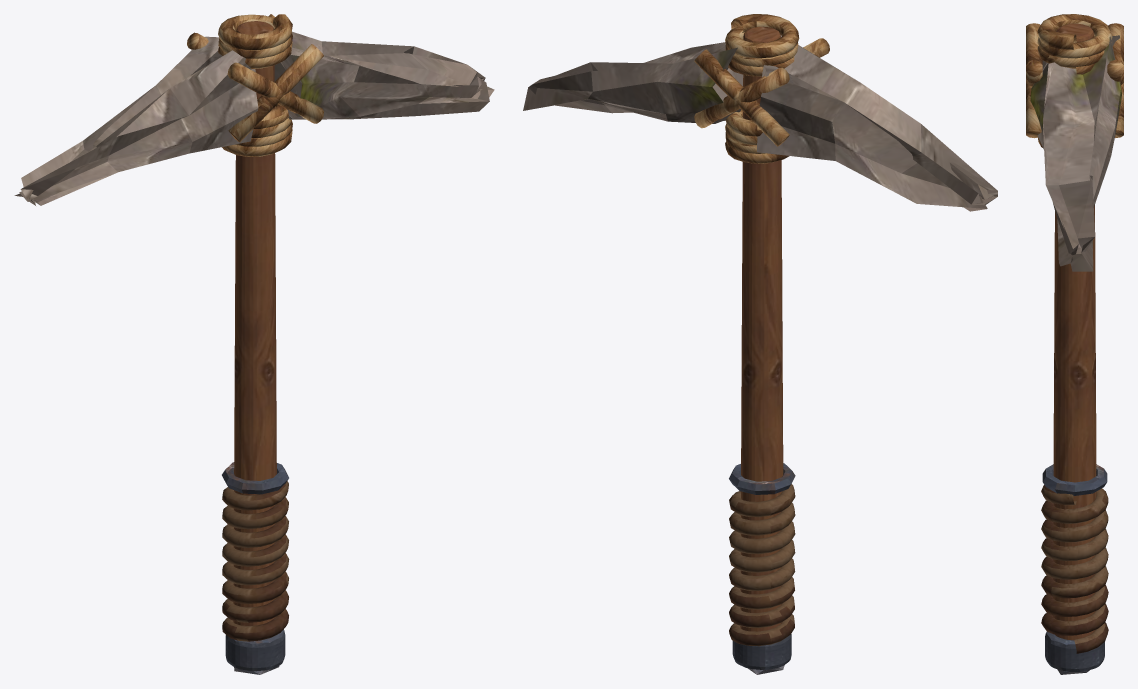
Rendered from pickaxe_stone.glb.
The picture shows the model from 3 angles, left to right: view 1: azimuth 30°, elevation 25°; view 2: azimuth 150°, elevation 25°; view 3: azimuth 270°, elevation 25°; orthographic projection.
Visible parts, largest first — view 1: model; view 2: model; view 3: model.
Boxes of the visible parts, x1,y1,x2,y2 form: model: [14, 14, 494, 674]; model: [523, 14, 997, 674]; model: [1026, 14, 1123, 674].
Bounding box in the file's own units: 0.5632 × 0.7393 × 0.1011.
6 materials, 6 textured.
